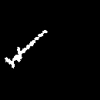double_crochet: (5, 30, 46, 67)
